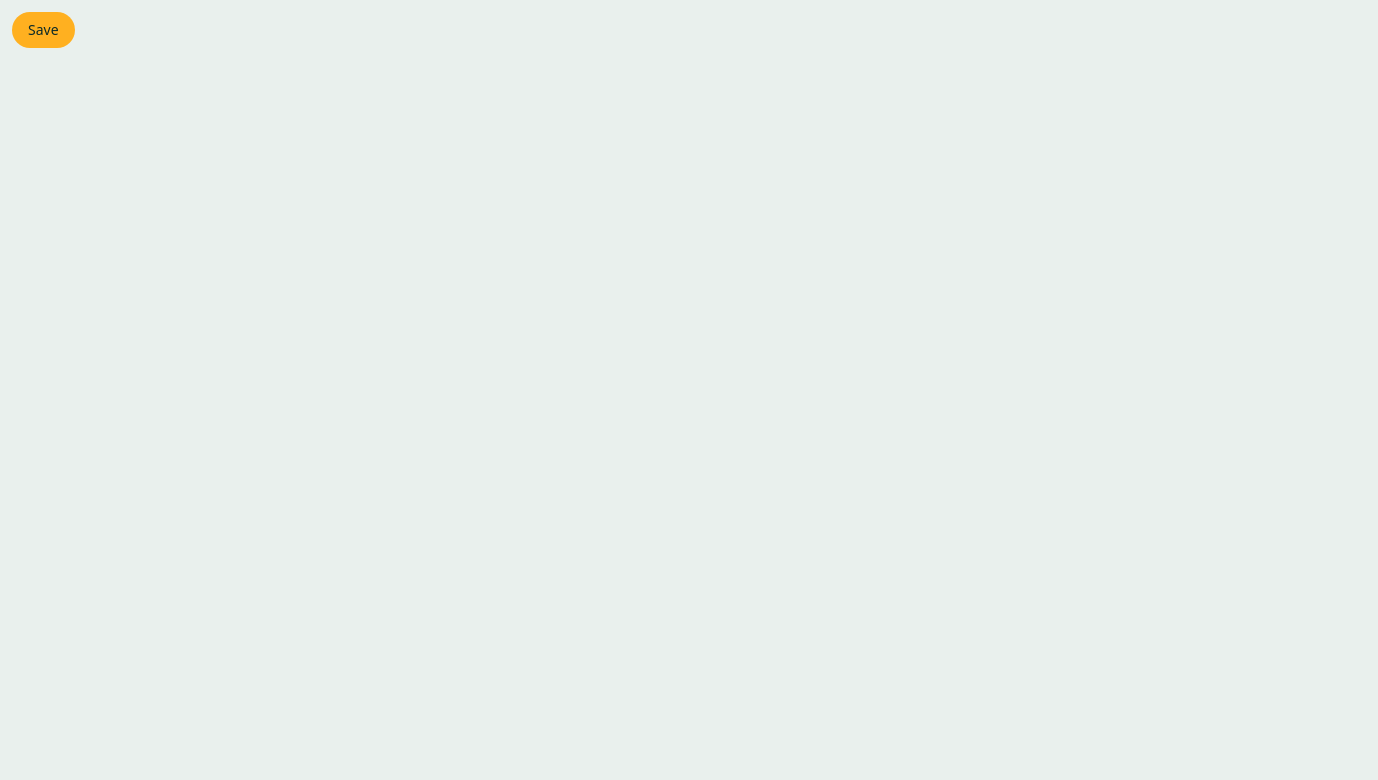
it: tabs and toast › shows a toast and lets the user dismiss it
The width and height of the screenshot is (1378, 780).
Click the button "Save": (43, 30) [12,12,75,48]
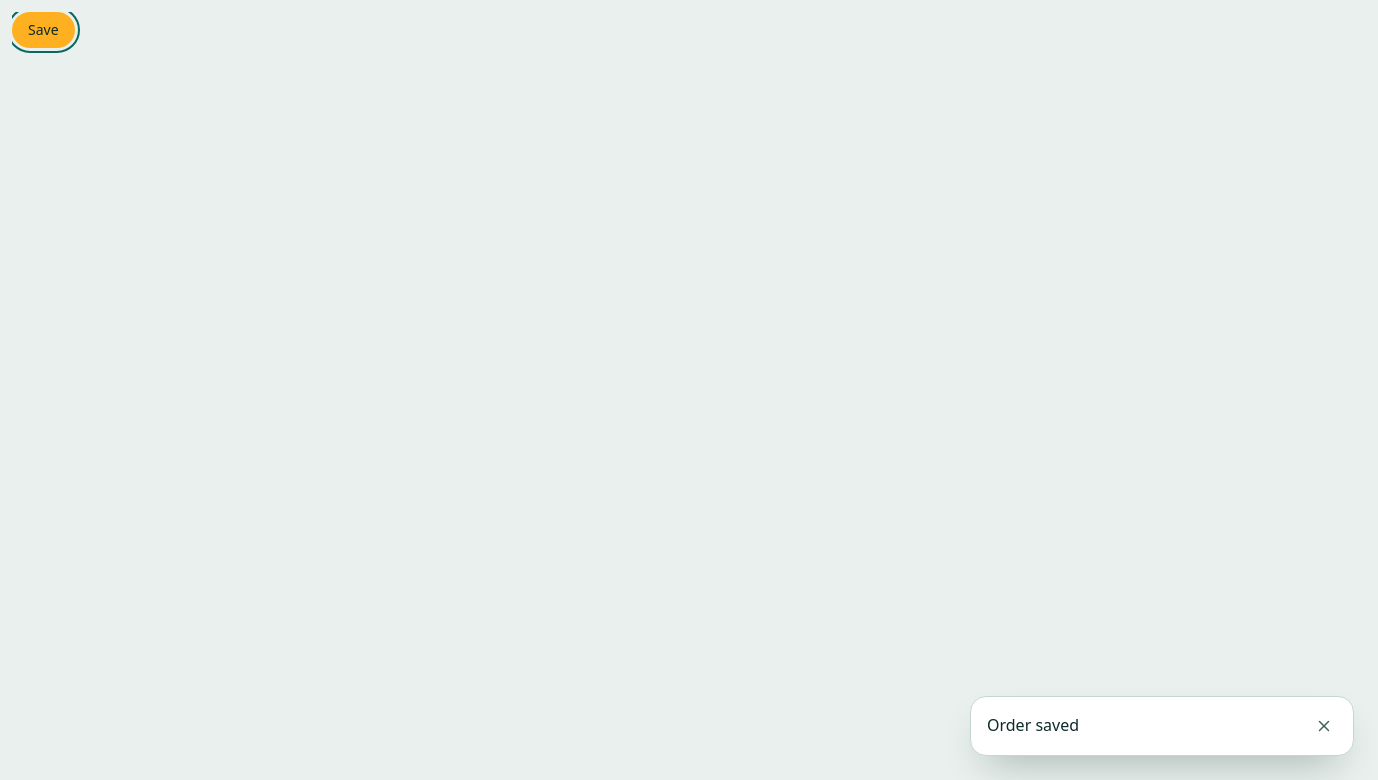
Expected: the message reads "Order saved", [987,714,1079,736]
Click the button named "Dismiss notification": (1324, 726) [1307,709,1341,743]
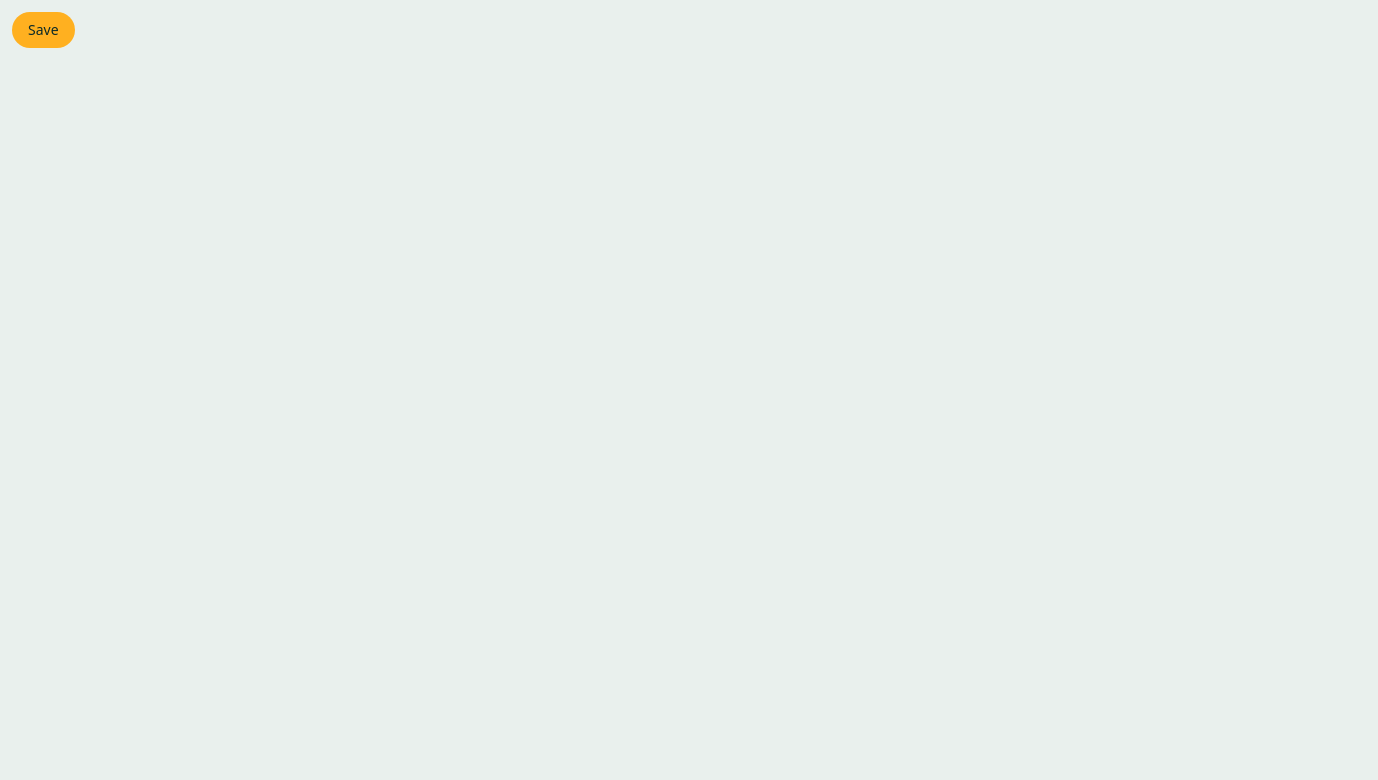
Expected: the message "Order saved" is gone
